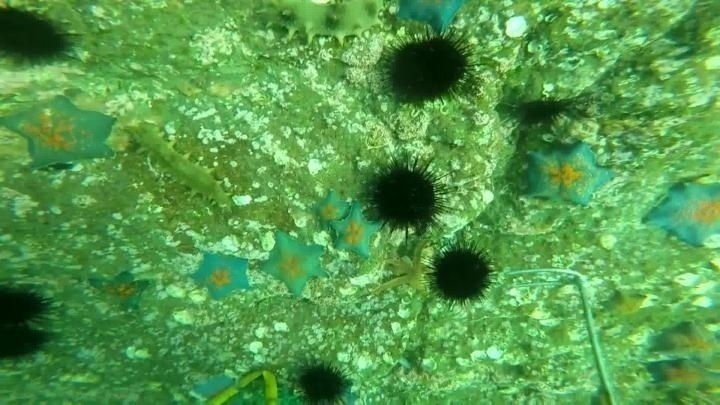echinus: (380, 31, 474, 107), (365, 158, 448, 237), (1, 3, 76, 69), (426, 242, 496, 307), (294, 360, 353, 403), (506, 93, 574, 130), (1, 283, 52, 328), (1, 320, 48, 363)
holothurian: (125, 119, 233, 212), (254, 1, 386, 49)
starfish: (1, 94, 118, 172), (522, 140, 614, 208), (645, 178, 720, 249), (259, 230, 328, 299), (645, 318, 720, 371), (642, 350, 719, 398), (189, 251, 253, 302), (329, 203, 383, 260), (88, 267, 152, 313), (393, 1, 469, 35), (309, 188, 354, 232), (188, 369, 241, 402), (602, 287, 651, 320)
